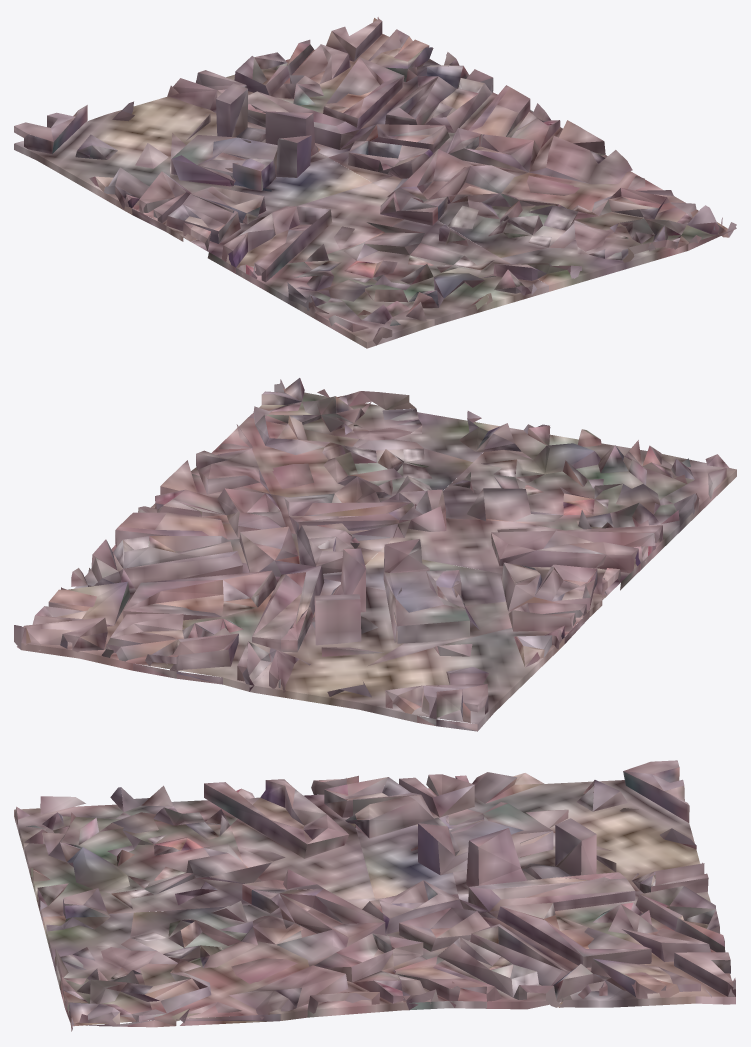
3 renders of one model, top to bottom at view 1: azimuth 30°, elevation 25°; view 2: azimuth 150°, elevation 25°; view 3: azimuth 270°, elevation 25°, orthographic. The views are drawn at different scales.
Parts seen in each view (by area): view 1: Mesh_0; view 2: Mesh_0; view 3: Mesh_0.
Part boxes in pixels (<box>): Mesh_0: <box>14,17,736,348</box>; Mesh_0: <box>14,378,736,731</box>; Mesh_0: <box>14,760,735,1031</box>.
Bounding box in the file's own units: 540 × 62.23 × 660.
Materials: 2 (2 with a texture image).
